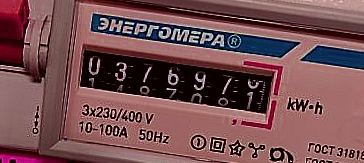0: (84, 53, 102, 76)
1: (242, 89, 254, 112)
3: (112, 59, 127, 82)
6: (163, 62, 181, 87)
7: (217, 70, 234, 95), (137, 60, 154, 84)
9: (190, 68, 207, 91)
screen: (64, 34, 285, 133)
